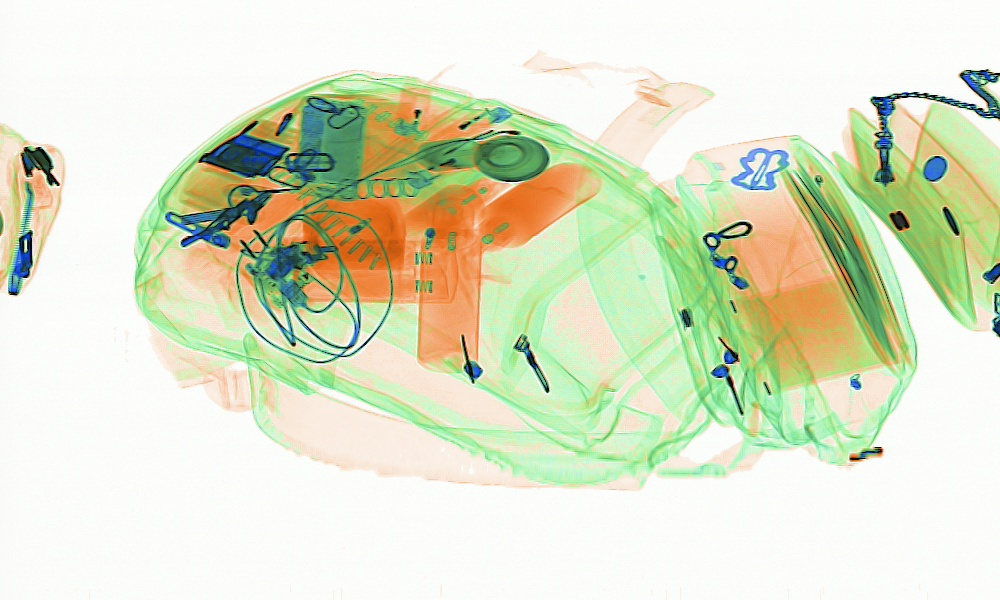lighter: (393, 139, 492, 187), (418, 103, 513, 150), (388, 73, 430, 140)
